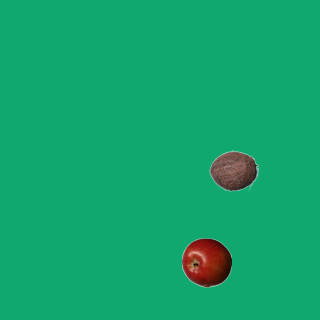Apple Braeburn: (181, 237, 231, 287)
Cocos: (208, 145, 258, 195)
